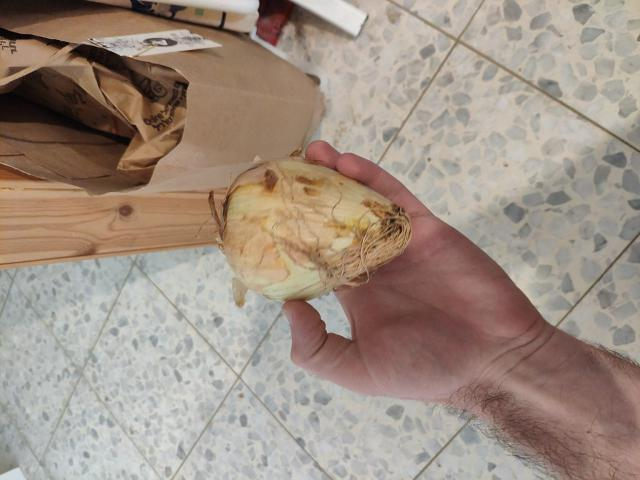onion: (204, 156, 418, 298)
